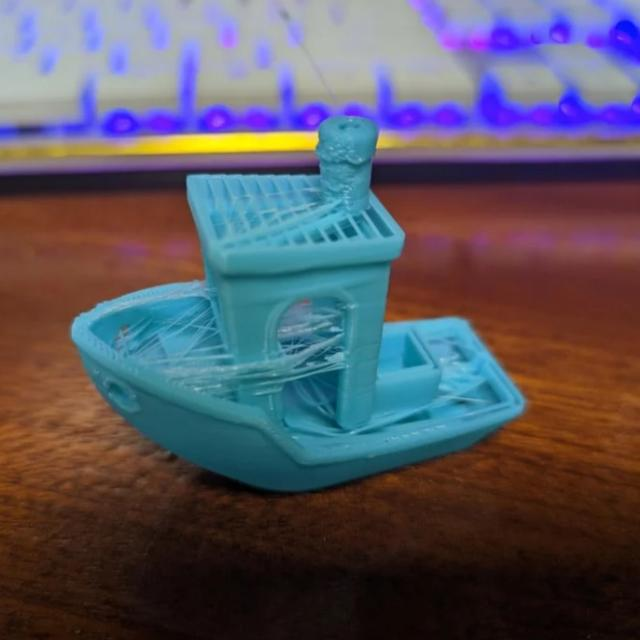Stringing: (127, 297, 248, 400), (265, 302, 354, 381)
